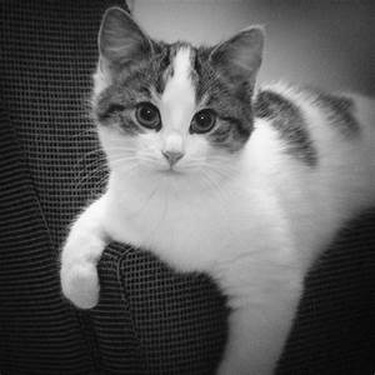cat: (52, 10, 365, 370)
